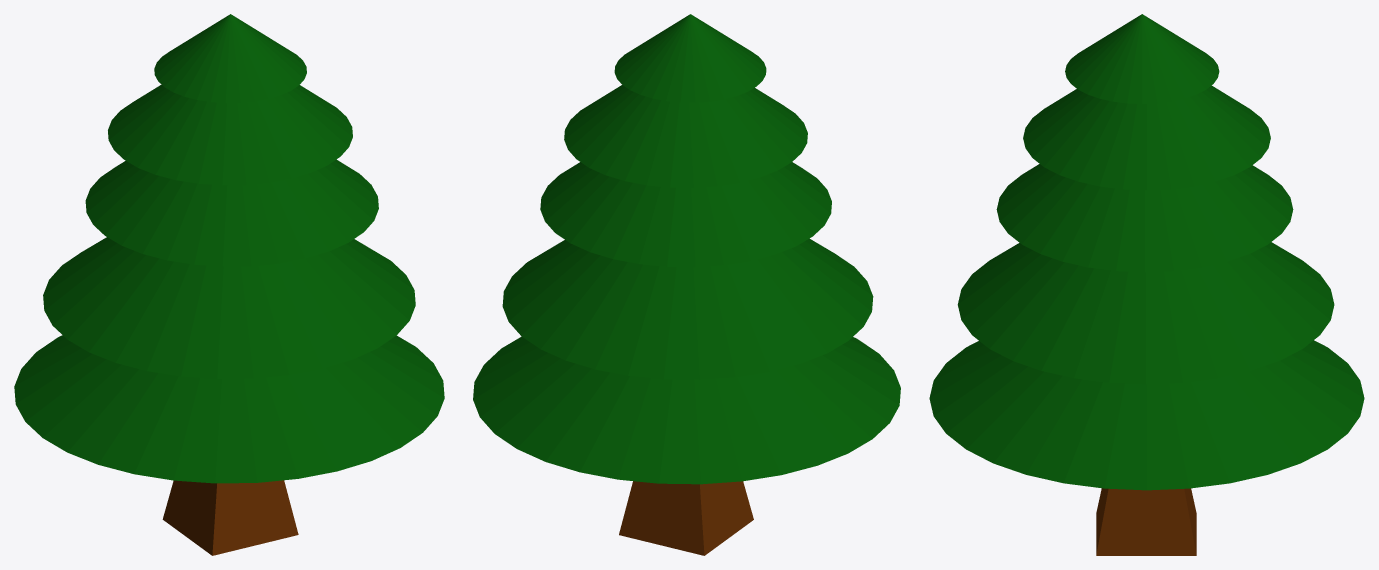
File: tree_pine.fbx
3 renders of one model, left to right at view 1: azimuth 30°, elevation 25°; view 2: azimuth 150°, elevation 25°; view 3: azimuth 270°, elevation 25°, orthographic.
Parts seen in each view (by area): view 1: Cone, Cone.001, Cone.003, Cone.002, Cone.004, Cube; view 2: Cone, Cone.001, Cone.003, Cone.002, Cone.004, Cube; view 3: Cone, Cone.001, Cone.003, Cone.002, Cone.004, Cube.
Part boxes in pixels (x1=…): Cone: x1=14, y1=335, x2=444, y2=483; Cone.001: x1=43, y1=237, x2=415, y2=378; Cone.003: x1=85, y1=159, x2=378, y2=266; Cone.002: x1=108, y1=84, x2=352, y2=185; Cone.004: x1=154, y1=14, x2=306, y2=103; Cube: x1=162, y1=480, x2=298, y2=555; Cone: x1=473, y1=336, x2=900, y2=484; Cone.001: x1=502, y1=238, x2=873, y2=379; Cone.003: x1=540, y1=162, x2=831, y2=267; Cone.002: x1=564, y1=85, x2=807, y2=187; Cone.004: x1=614, y1=14, x2=766, y2=102; Cube: x1=619, y1=481, x2=753, y2=555; Cone: x1=929, y1=340, x2=1364, y2=490; Cone.001: x1=957, y1=242, x2=1334, y2=384; Cone.003: x1=996, y1=164, x2=1293, y2=272; Cone.002: x1=1023, y1=85, x2=1270, y2=190; Cone.004: x1=1065, y1=14, x2=1219, y2=103; Cube: x1=1096, y1=488, x2=1196, y2=555.
Bounding box in the file's own units: 1180 × 1556 × 1180.
